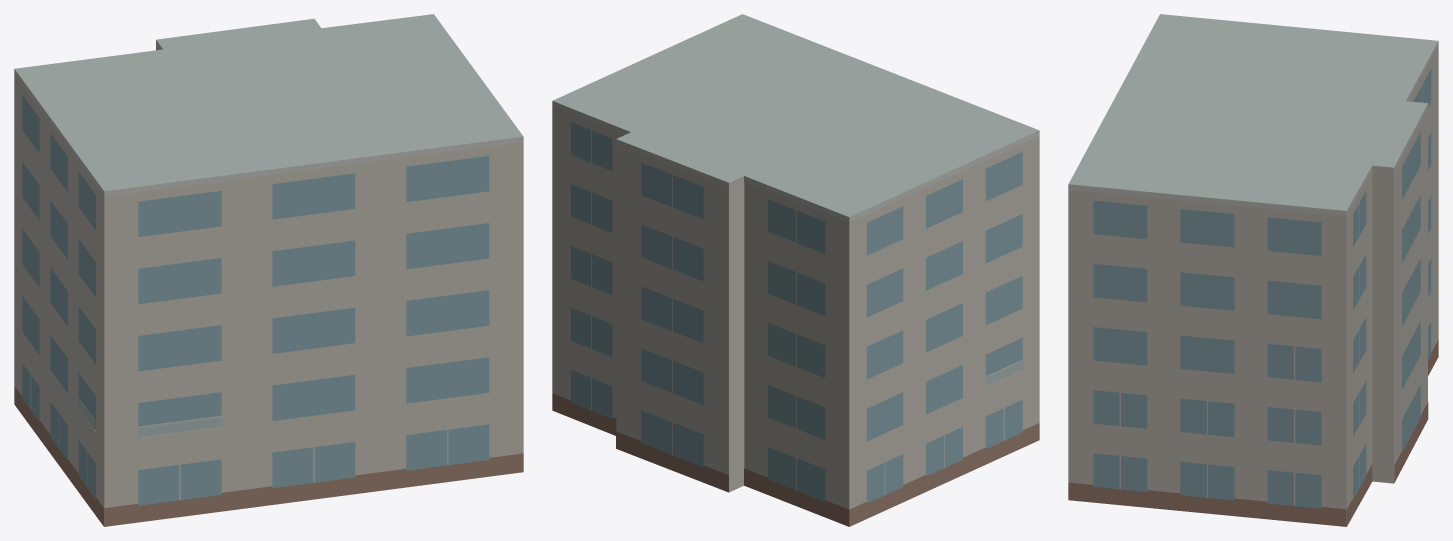
File: survey-upis-32845004.glb
3 views of the same model, side by side, from view 1: azimuth 30°, elevation 25°; view 2: azimuth 150°, elevation 25°; view 3: azimuth 270°, elevation 25° (orthographic). The views are drawn at different scales.
Visible parts, largest first — view 1: survey-upis-32845004.tmp; view 2: survey-upis-32845004.tmp; view 3: survey-upis-32845004.tmp.
Boxes of the visible parts, x1,y1,x2,y2 form: survey-upis-32845004.tmp: [14, 14, 523, 526]; survey-upis-32845004.tmp: [552, 14, 1039, 526]; survey-upis-32845004.tmp: [1068, 14, 1438, 526].
Size of the model in its own units: 18.86 by 14.1 by 14.99.
